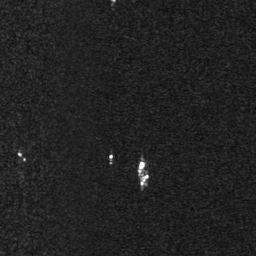ship: (139, 173, 149, 187), (137, 159, 145, 174)
